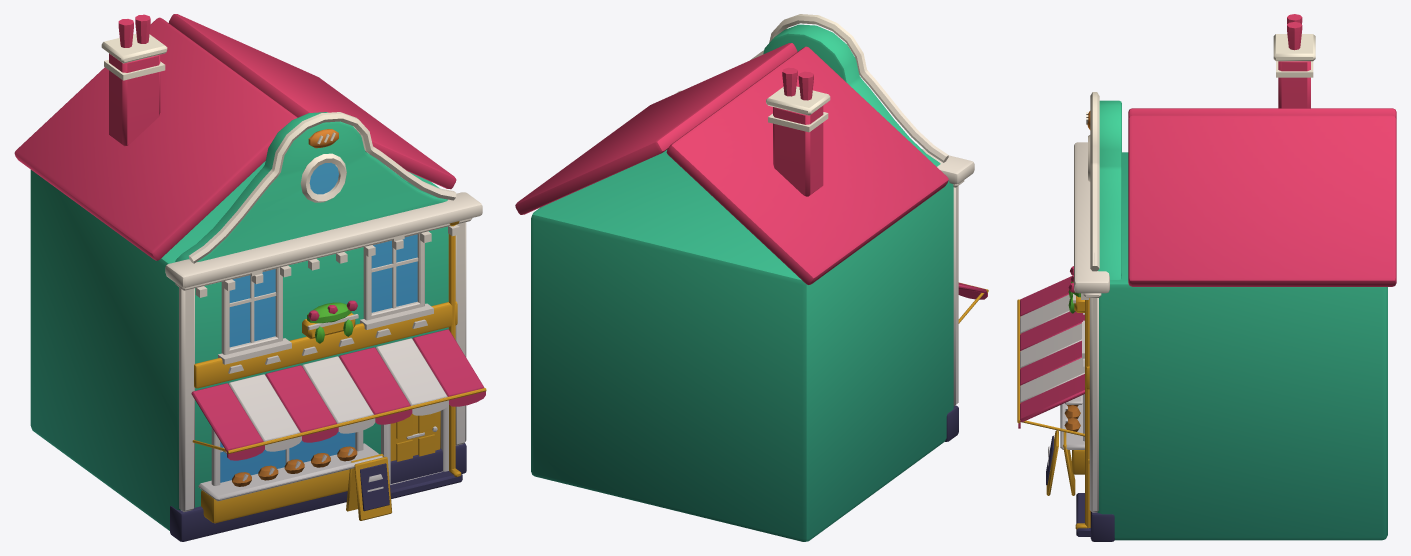
The model's file is bakery.glb.
3 views of the same model, side by side, from view 1: azimuth 30°, elevation 25°; view 2: azimuth 150°, elevation 25°; view 3: azimuth 270°, elevation 25° (orthographic). The views are drawn at different scales.
Parts seen in each view (by area): view 1: bakery; view 2: bakery; view 3: bakery.
Boxes of the visible parts, x1,y1,x2,y2 form: bakery: (14, 14, 486, 541); bakery: (515, 14, 988, 541); bakery: (1017, 14, 1396, 541).
Bounding box in the file's own units: 5.81 × 7.85 × 6.5.
